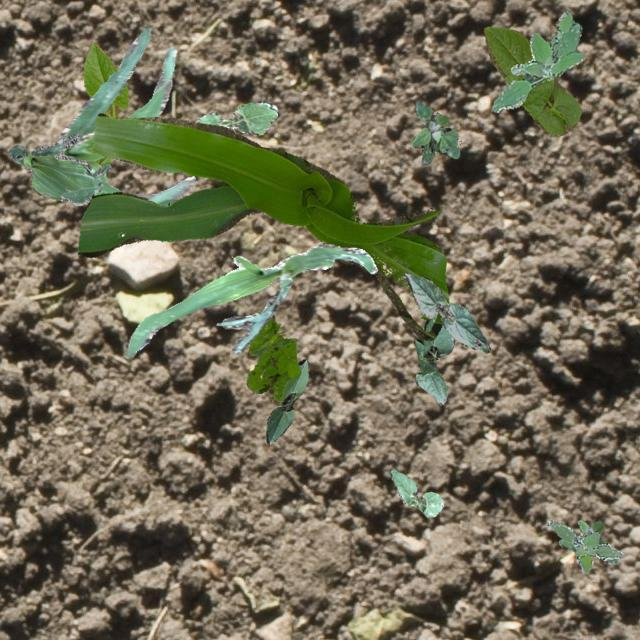crop: (76, 113, 448, 340), (124, 244, 376, 358), (56, 27, 194, 205), (482, 26, 580, 136), (8, 133, 110, 205), (402, 272, 490, 352), (82, 41, 128, 166), (266, 358, 308, 442), (414, 317, 454, 403), (195, 102, 276, 134), (388, 468, 442, 516)
weed: (491, 10, 582, 110), (246, 314, 300, 404), (546, 520, 622, 572), (412, 100, 458, 163), (558, 520, 616, 564)
